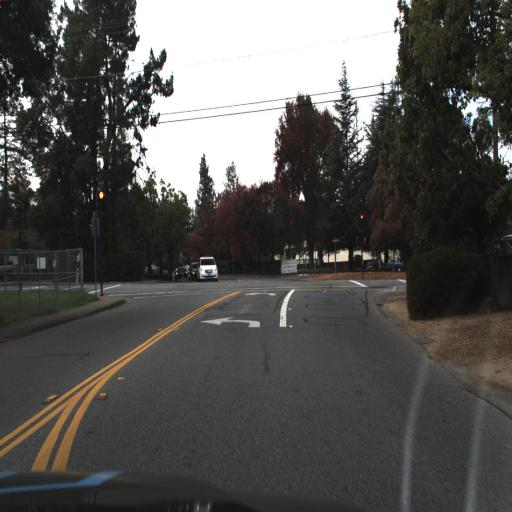car: (198, 254, 219, 282), (185, 263, 199, 283), (174, 264, 188, 282)
trafficLight-Red: (354, 207, 370, 229), (95, 189, 106, 216), (85, 214, 95, 234), (97, 186, 105, 206), (358, 212, 364, 229)
